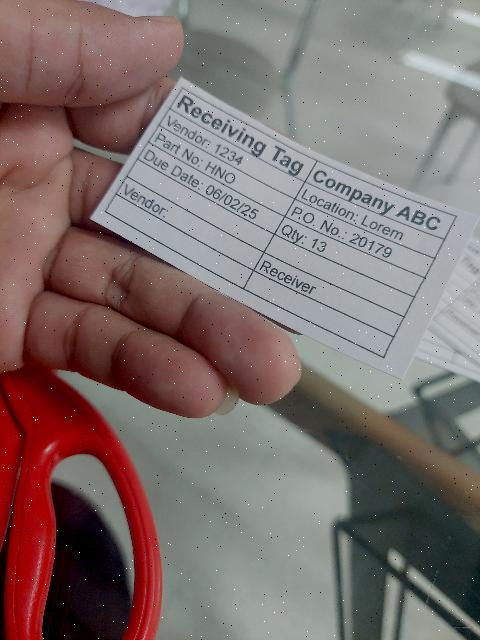PO no: (285, 199, 434, 278)
part no: (147, 125, 296, 217)
qty: (274, 214, 425, 298)
tags: (89, 78, 480, 383)
